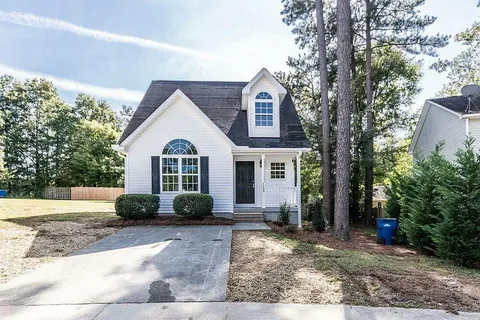private_hause: (125, 80, 306, 223)
